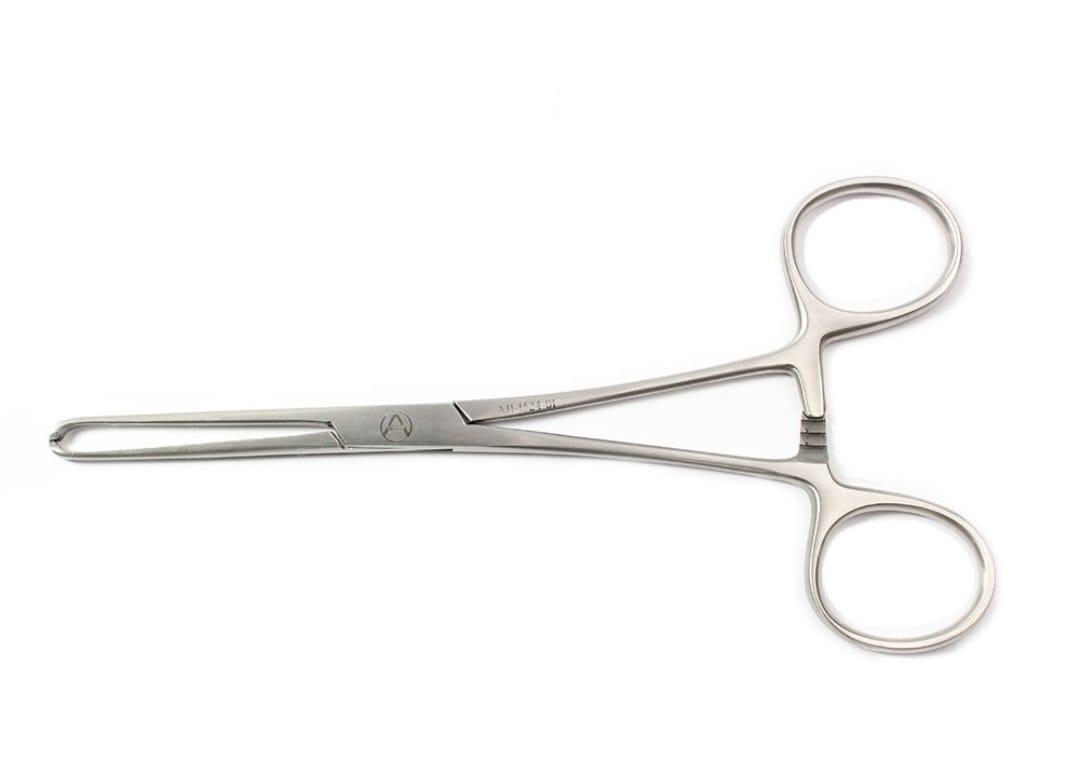Allis Forceps: (40, 171, 1010, 666)
